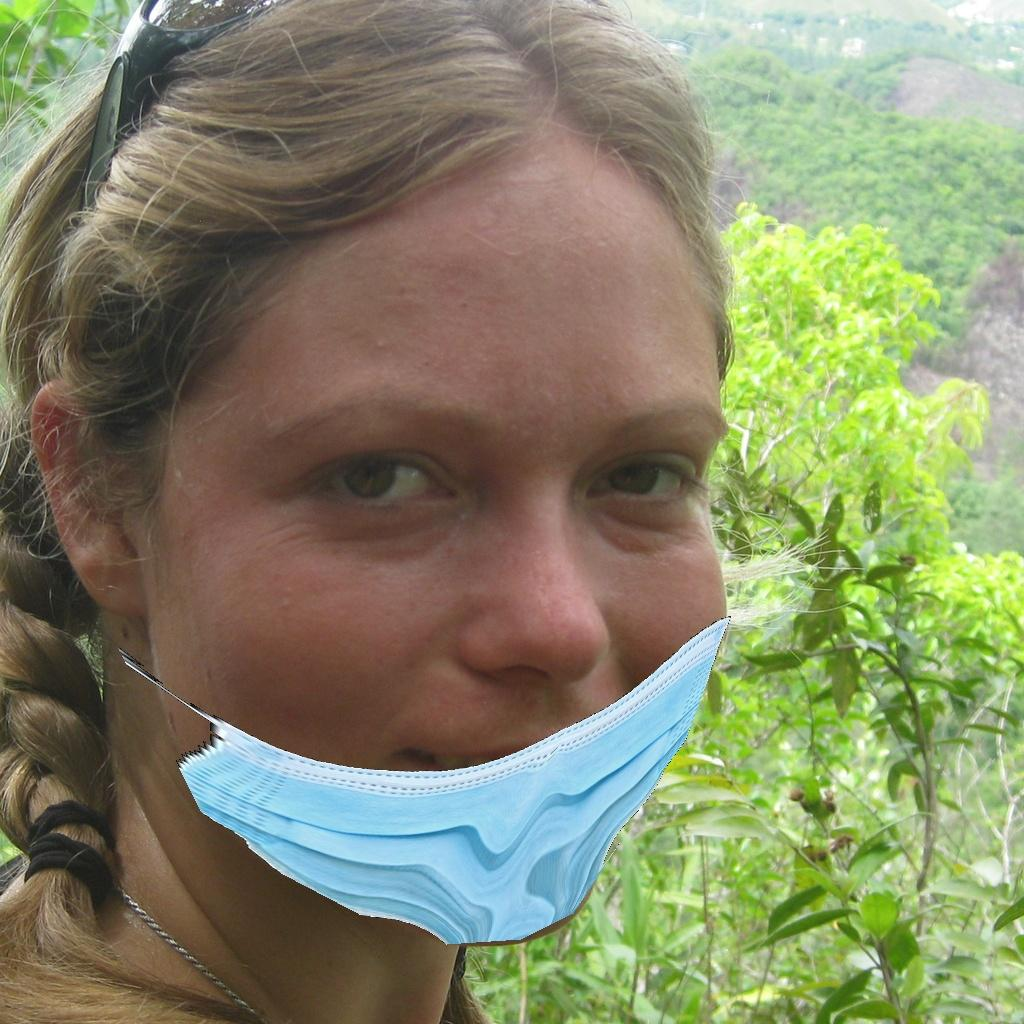Máscara Incorreta: (192, 319, 743, 935)
